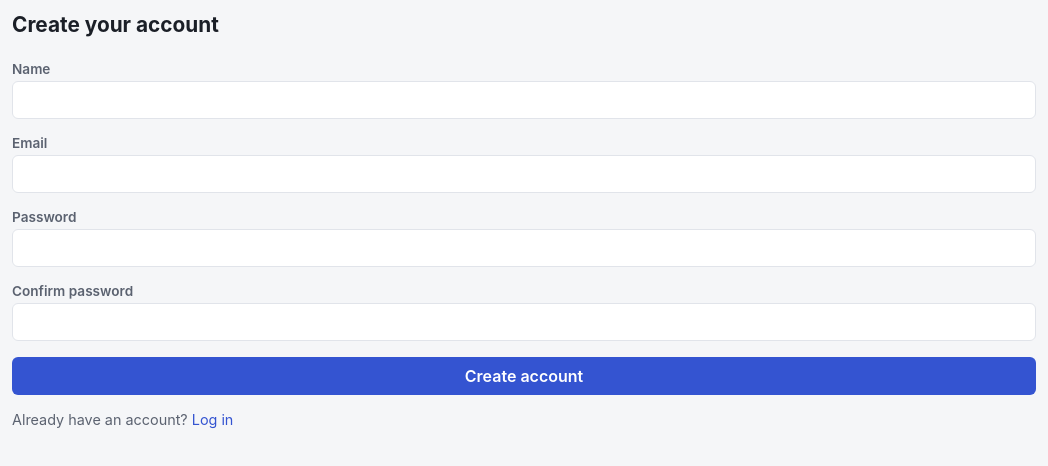
RegisterPage › rejects mismatched passwords
Type "Manavi" into the field labelled "Name".
click(524, 100); type("Manavi")  # box [12, 81, 1036, 119]
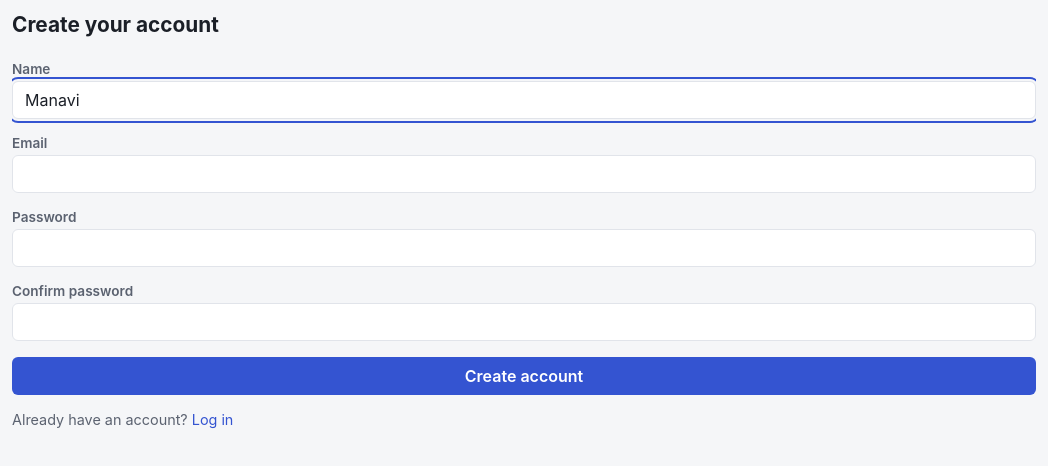
Type "manavi@example.com" into the field labelled "Email".
click(524, 174); type("manavi@example.com")  # box [12, 155, 1036, 193]
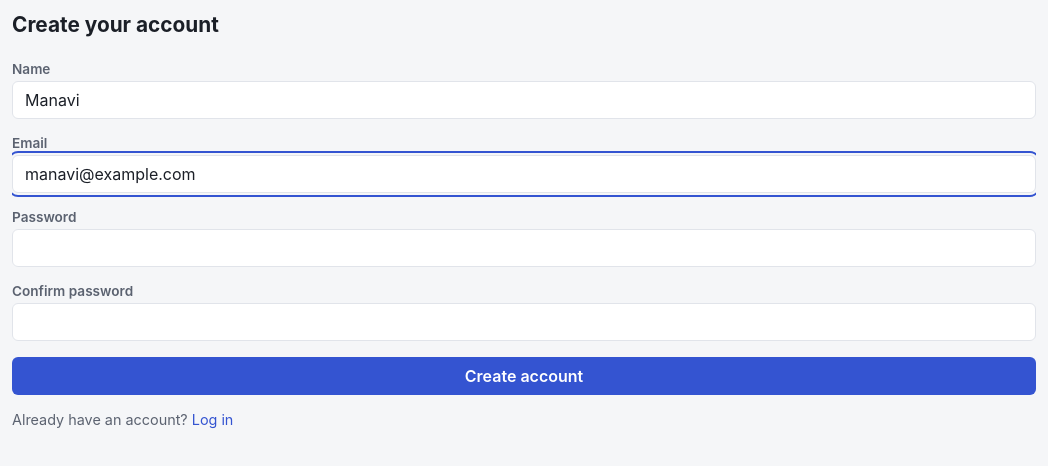
Type "Passw0rd1" into the password field labelled "Password".
click(524, 248); type("Passw0rd1")  # box [12, 229, 1036, 267]
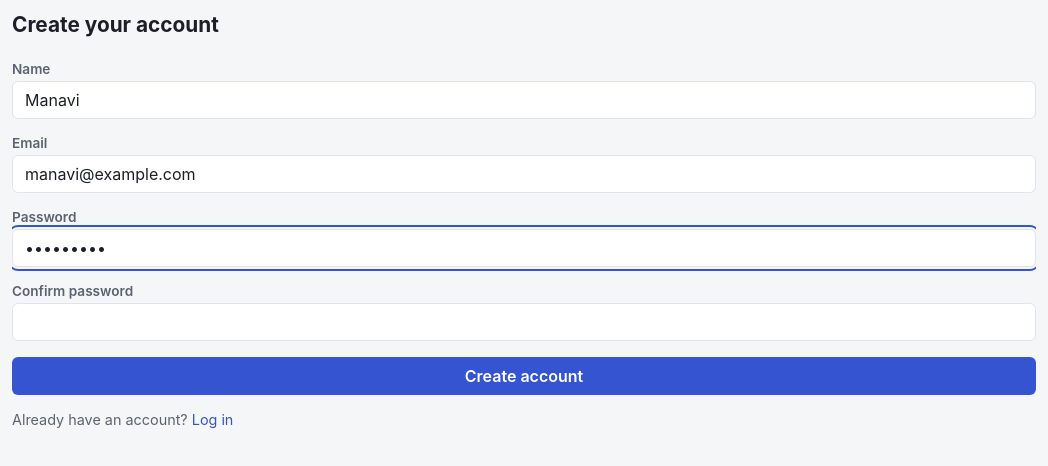
Type "Different1" into the password field labelled "Confirm password".
click(524, 322); type("Different1")  # box [12, 303, 1036, 341]
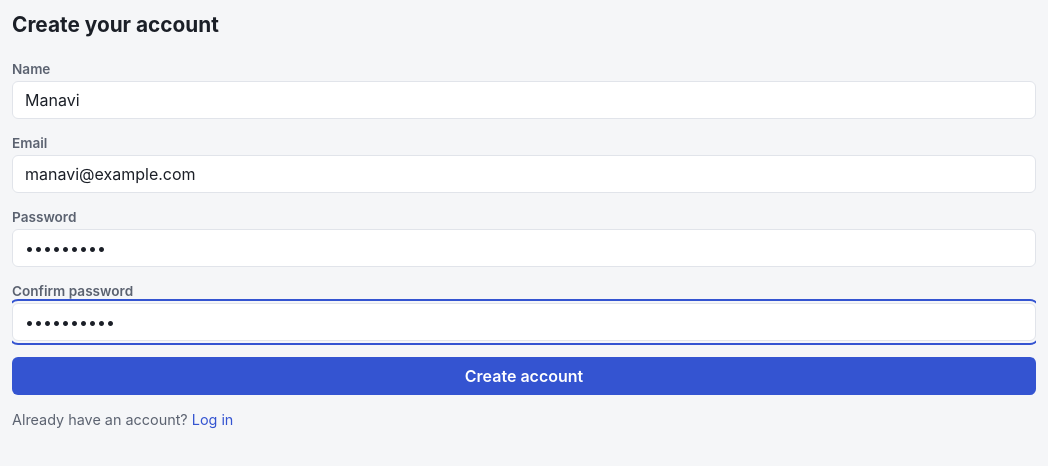
Click the button "Create account".
click(524, 376)  # box [12, 357, 1036, 395]
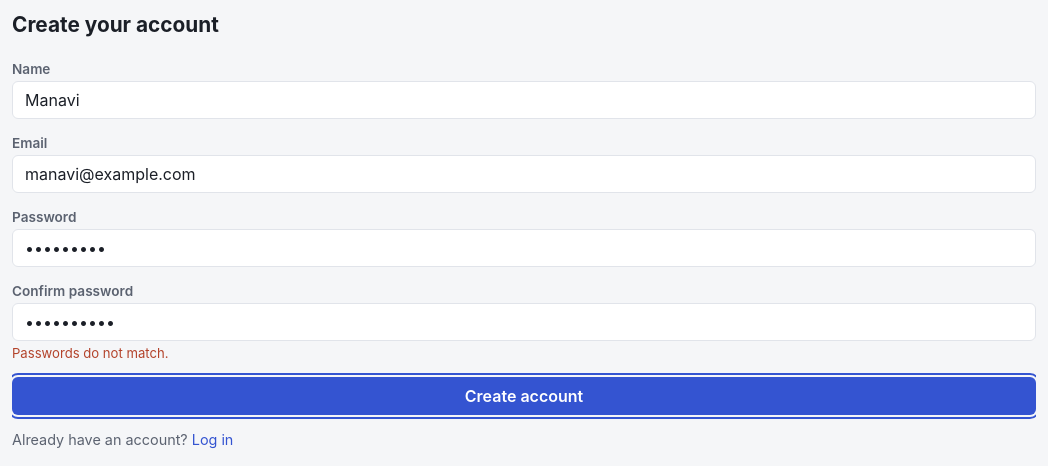
Check: the text "Passwords do not match." is shown, box [12, 345, 168, 361]
